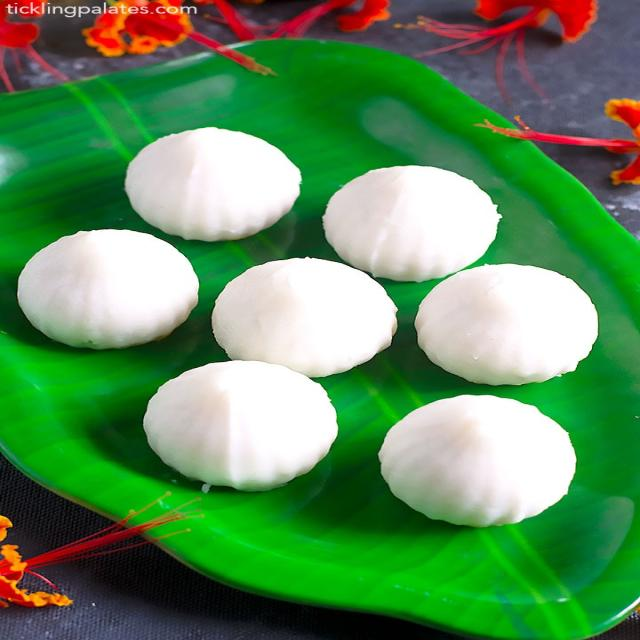poorna kolukattai: (0, 123, 640, 574)
